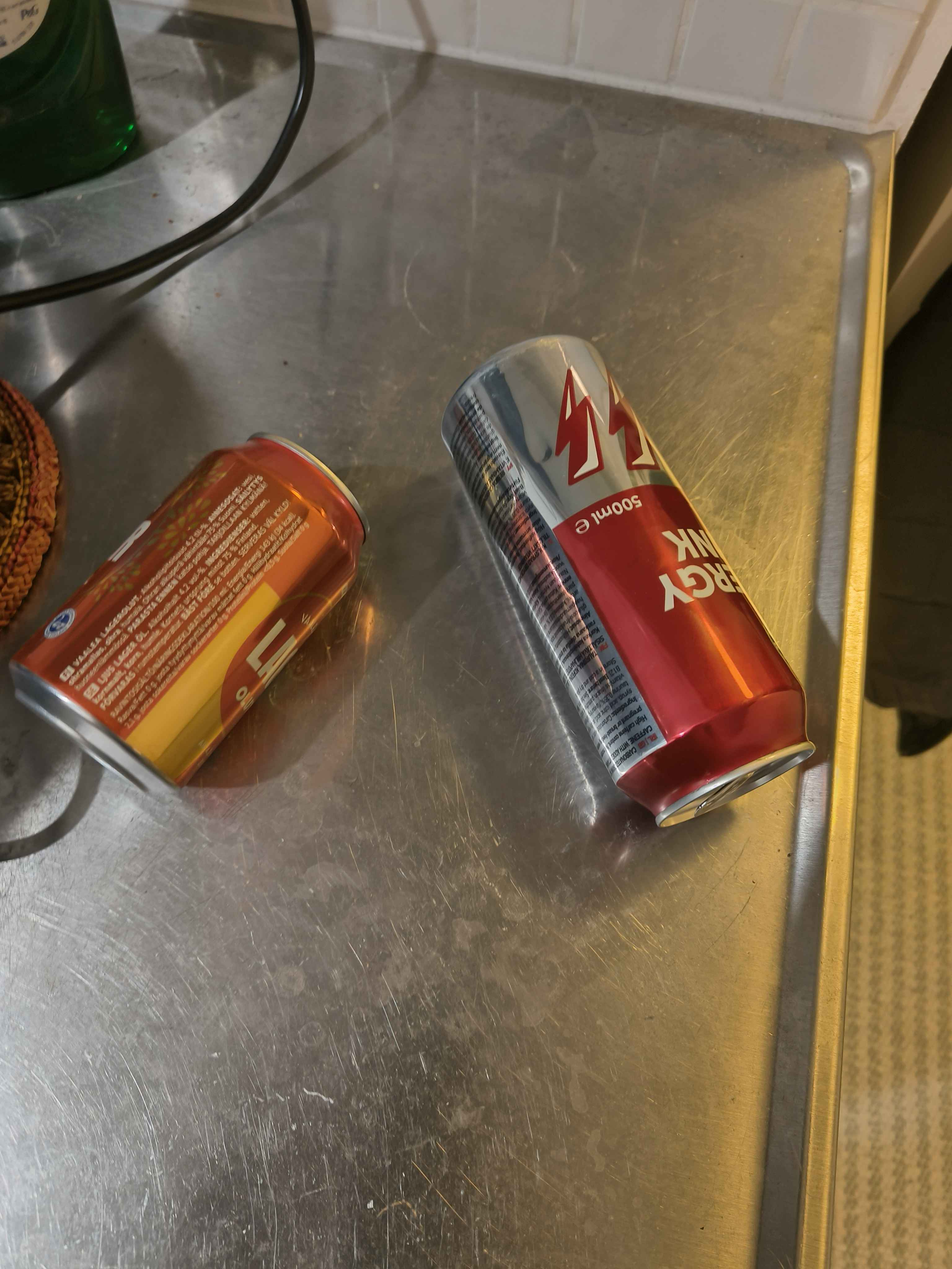Pantburk: (439, 333, 817, 827), (8, 431, 370, 797)
